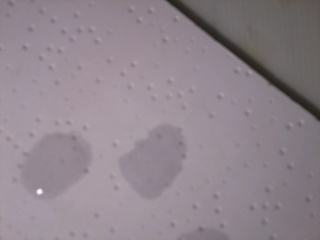Water_detected: (123, 126, 178, 189), (26, 130, 84, 189)
